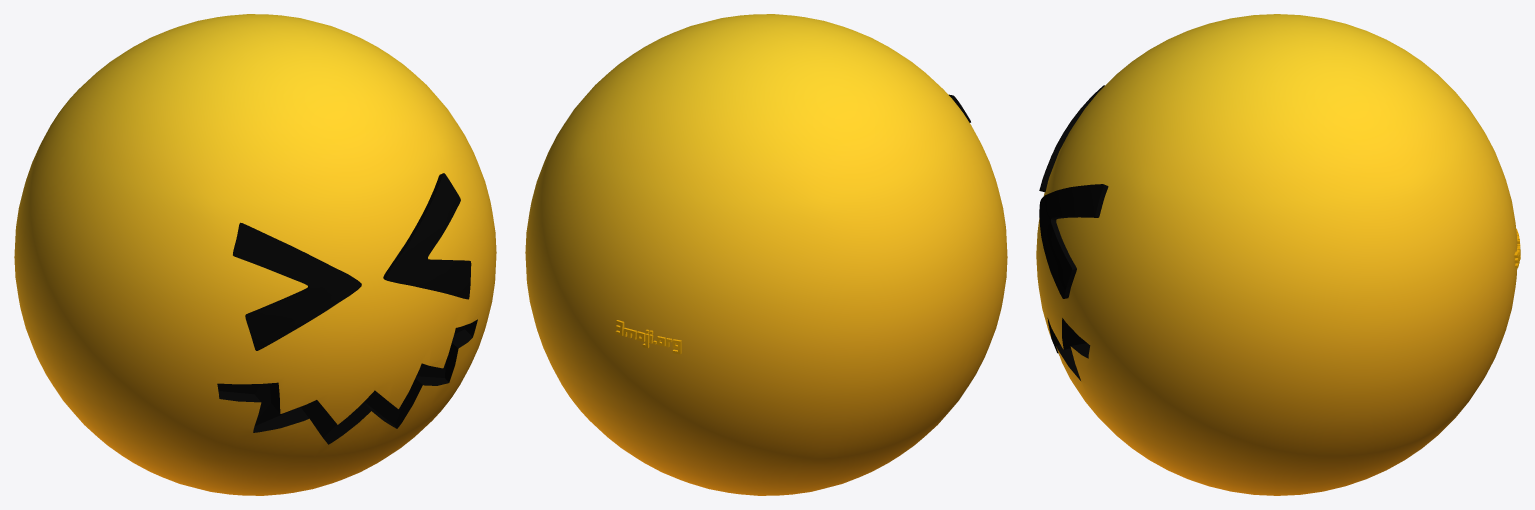
Rendered from confounded_face.glb.
3 views of the same model, side by side, from view 1: azimuth 30°, elevation 25°; view 2: azimuth 150°, elevation 25°; view 3: azimuth 270°, elevation 25° (orthographic).
Parts seen in each view (by area): view 1: Confounded Face; view 2: Confounded Face; view 3: Confounded Face.
Part boxes in pixels (x1=…): Confounded Face: x1=14, y1=14, x2=496, y2=495; Confounded Face: x1=525, y1=14, x2=1007, y2=495; Confounded Face: x1=1036, y1=14, x2=1520, y2=495.
Bounding box in the file's own units: 1.69 × 1.69 × 1.7.
1 material, 1 textured.
